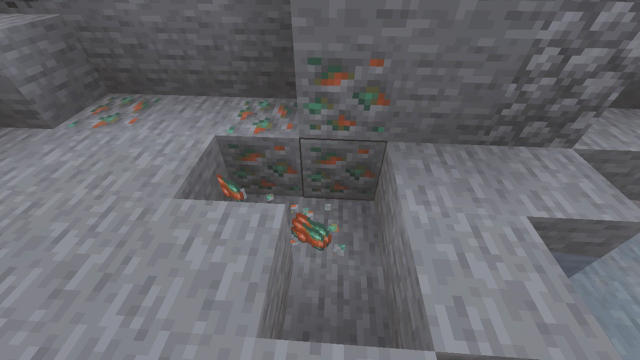copper: (218, 54, 389, 200), (68, 87, 160, 131)
